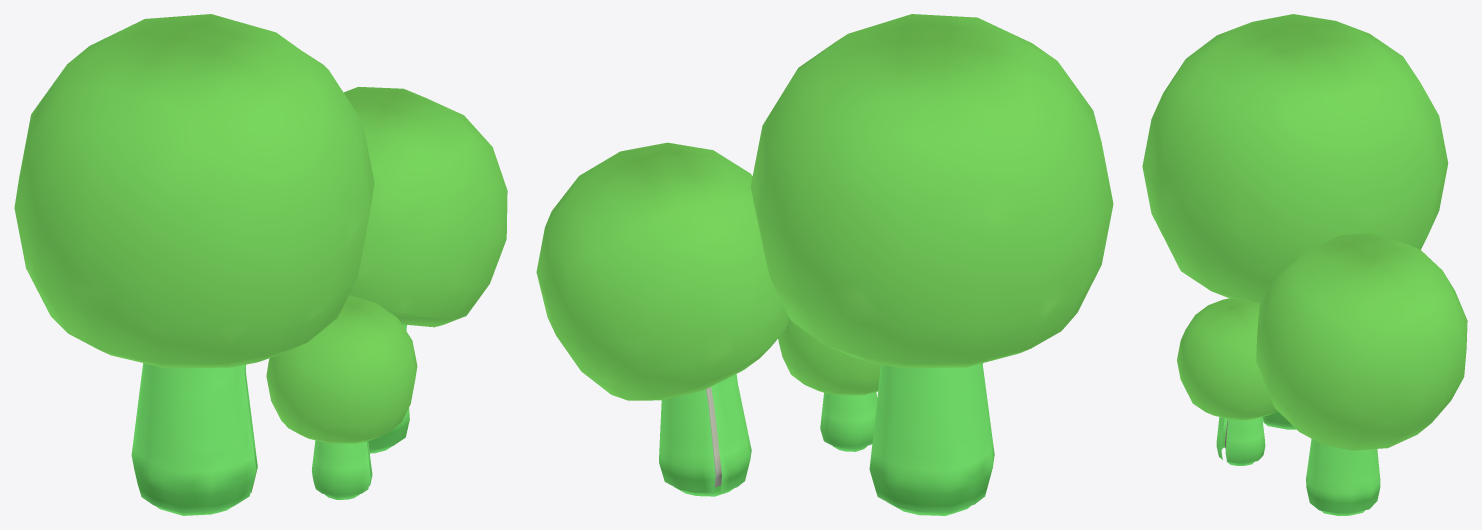
Rendered from houba_pecarka_svitici.glb.
The picture shows the model from 3 angles, left to right: view 1: azimuth 30°, elevation 25°; view 2: azimuth 150°, elevation 25°; view 3: azimuth 270°, elevation 25°; orthographic projection. The views are drawn at different scales.
Visible parts, largest first — view 1: noc; view 2: noc, houba_pecarka_svitici; view 3: noc.
Part boxes in pixels (bbox=[...]): noc: bbox=[14, 14, 507, 515]; noc: bbox=[536, 14, 1113, 515]; houba_pecarka_svitici: bbox=[706, 387, 721, 487]; noc: bbox=[1142, 14, 1467, 515].
Bounding box in the file's own units: 0.113 × 0.1038 × 0.0774.
2 materials, 2 textured.
